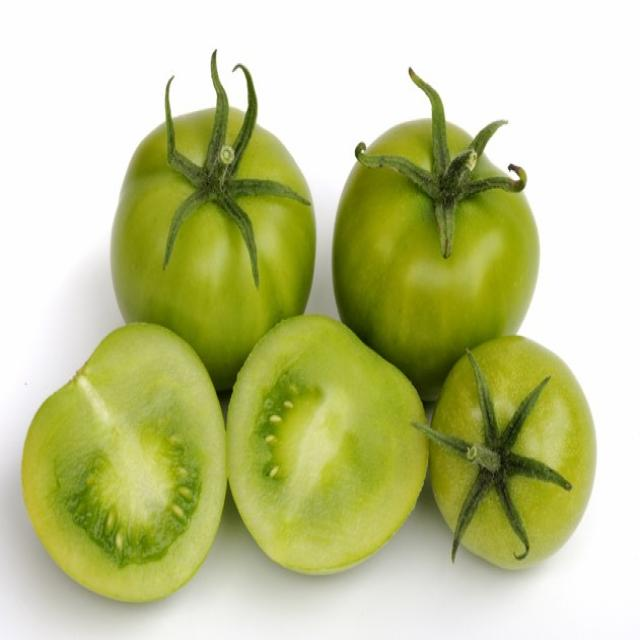yesil: (107, 68, 313, 352), (338, 116, 544, 350), (420, 342, 604, 578)
